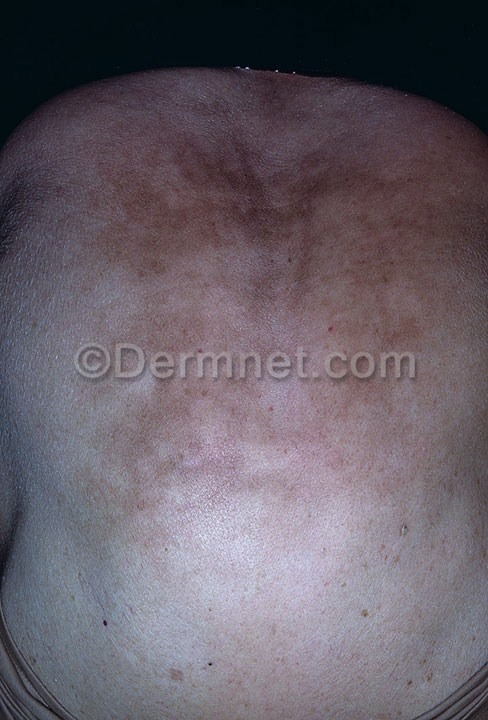Melasma: (71, 383, 488, 517), (196, 19, 251, 131)
